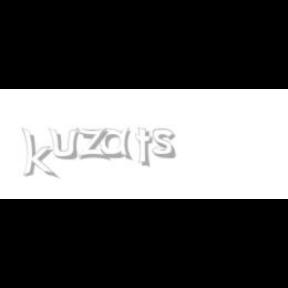a: (100, 128, 138, 160)
k: (21, 128, 59, 180)
s: (152, 128, 180, 160)
t: (135, 128, 157, 168)
u: (48, 128, 82, 160)
z: (76, 128, 112, 160)
